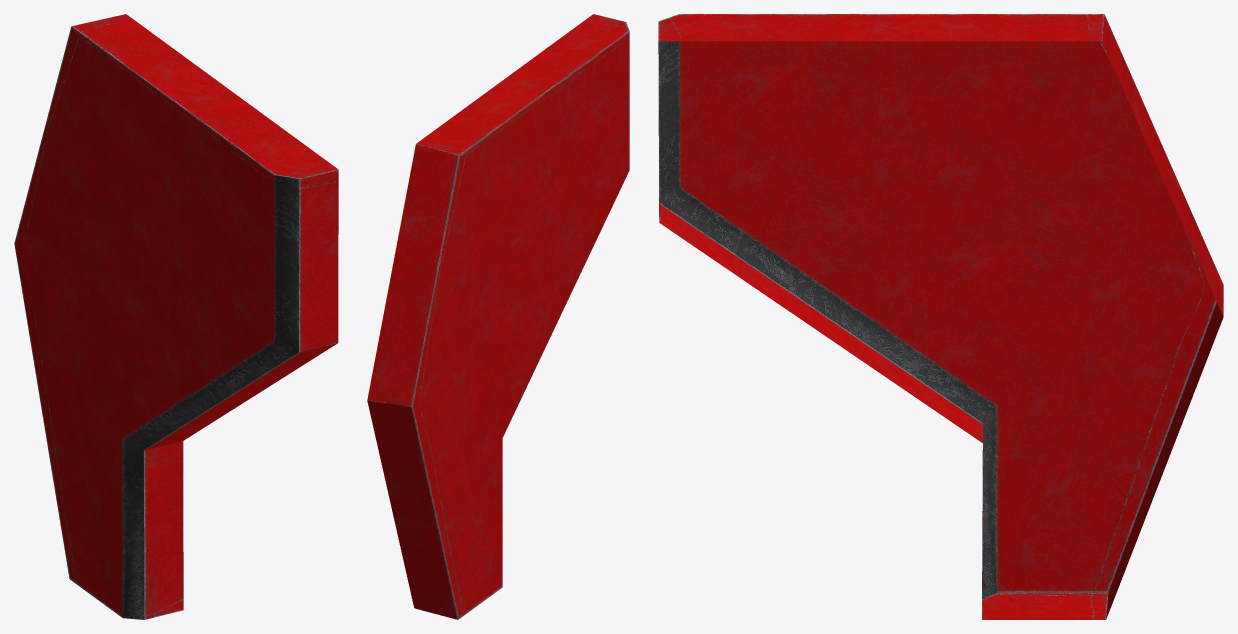
Rendered from Makovec_Door_01_Upper_Half.fbx.
3 renders of one model, left to right at view 1: azimuth 30°, elevation 25°; view 2: azimuth 150°, elevation 25°; view 3: azimuth 270°, elevation 25°, orthographic. The views are drawn at different scales.
Parts seen in each view (by area): view 1: Upper_Half; view 2: Upper_Half; view 3: Upper_Half.
Part boxes in pixels (x1,y1,x2,y2): Upper_Half: (14, 14, 338, 619); Upper_Half: (367, 14, 629, 619); Upper_Half: (658, 14, 1223, 619).
Bounding box in the file's own units: 2.27 × 22.43 × 19.85.
1 material, 1 textured.
